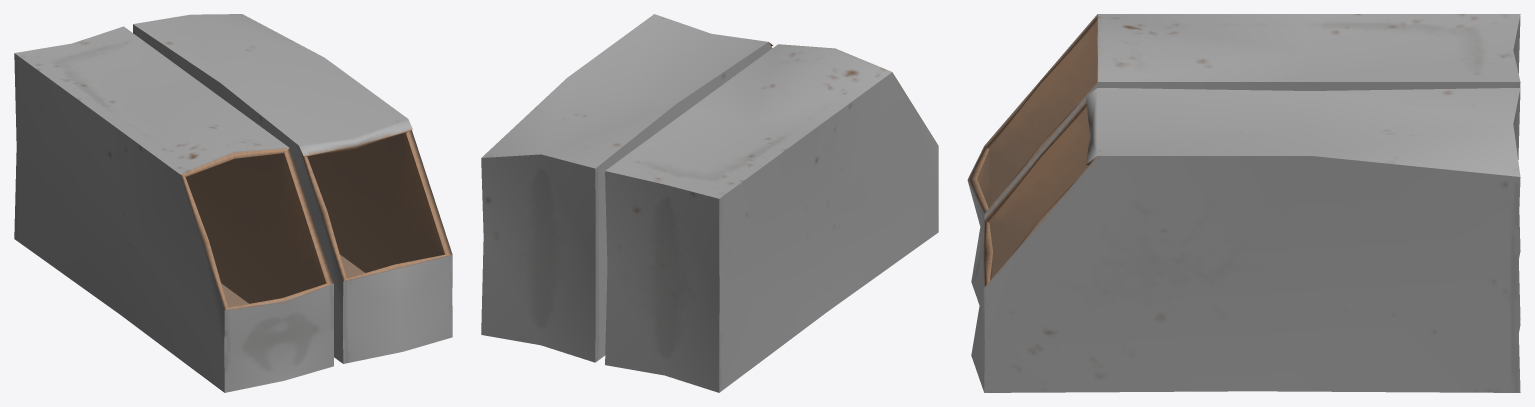
File: SM_CartonDrawer_02.FBX
3 renders of one model, left to right at view 1: azimuth 30°, elevation 25°; view 2: azimuth 150°, elevation 25°; view 3: azimuth 270°, elevation 25°, orthographic. The views are drawn at different scales.
Parts seen in each view (by area): view 1: SM_CartonDrawer_02; view 2: SM_CartonDrawer_02; view 3: SM_CartonDrawer_02.
Boxes of the visible parts, box(x1,y1,x2,y2) form: SM_CartonDrawer_02: box(14, 14, 452, 392); SM_CartonDrawer_02: box(481, 14, 938, 392); SM_CartonDrawer_02: box(967, 14, 1520, 392).
Size of the model in its own units: 26.35 by 43.42 by 21.56.
